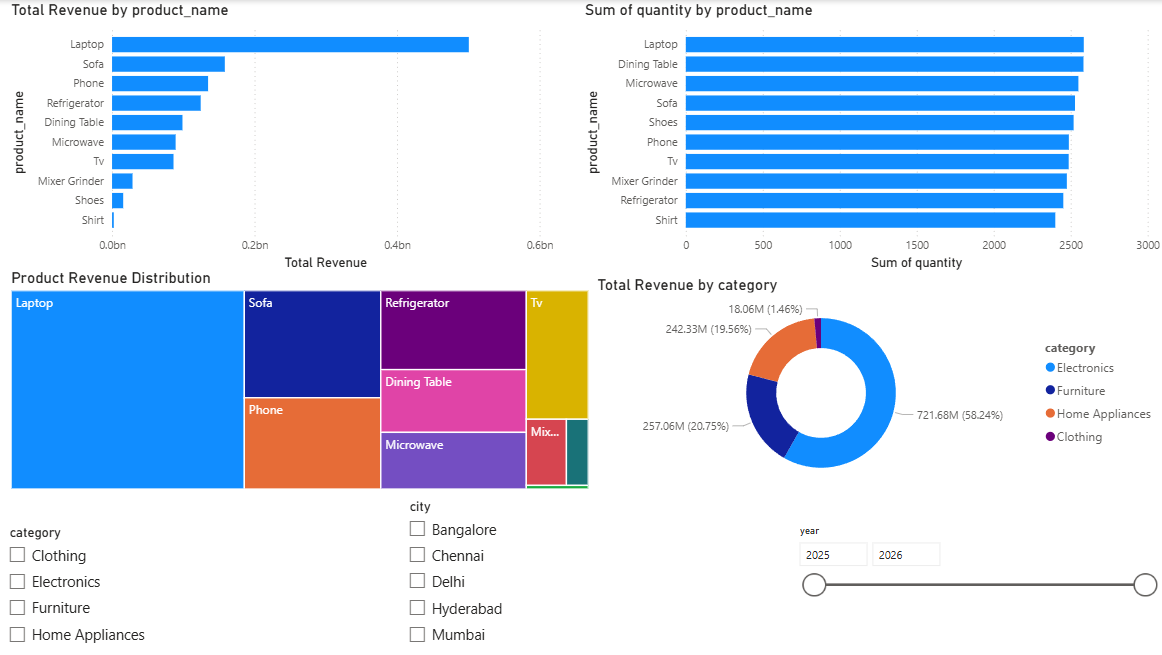

This screenshot's page, from the dashboard's own definition file:
{"tool":"powerbi","page":{"name":"Product Performance","canvas":[1280,720],"ordinal":1},"visuals":[{"type":"clusteredBarChart","fields":{"Category":["cleaned_retail_data.product_name"],"Y":["cleaned_retail_data.Total Revenue"]},"box":[9.6,0,605.1,301.9],"z":0},{"type":"clusteredBarChart","fields":{"Category":["cleaned_retail_data.product_name"],"Y":["Sum(cleaned_retail_data.quantity)"]},"box":[639.5,0,640.8,301.9],"z":1000},{"type":"treemap","title":"Product Revenue Distribution","fields":{"Group":["cleaned_retail_data.product_name"],"Values":["cleaned_retail_data.Total Revenue"]},"box":[9.6,295,643.6,247],"z":2000},{"type":"donutChart","fields":{"Category":["cleaned_retail_data.category"],"Y":["cleaned_retail_data.Total Revenue"]},"box":[653.2,301.9,627.1,240.1],"z":3000},{"type":"slicer","fields":{"Values":["cleaned_retail_data.category"]},"box":[0,570.8,417.2,149.6],"z":4000},{"type":"slicer","fields":{"Values":["cleaned_retail_data.city"]},"box":[439.1,542,428.1,178.4],"z":5000},{"type":"slicer","fields":{"Values":["cleaned_retail_data.year"]},"box":[867.2,570.8,413,149.6],"z":6000}]}

Visuals, with their boxes in screenshot pixels (x1, y1, x2, y2), scaled from the page's 1280x720 canvas onto the 1162x655 screenshot:
clusteredBarChart - cleaned_retail_data.product_name x cleaned_retail_data.Total Revenue: 9/0/558/275
clusteredBarChart - cleaned_retail_data.product_name x Sum(cleaned_retail_data.quantity): 581/0/1161/275
"Product Revenue Distribution" treemap: 9/268/593/493
donutChart - cleaned_retail_data.category x cleaned_retail_data.Total Revenue: 593/275/1161/493
slicer - cleaned_retail_data.category: 0/519/379/654
slicer - cleaned_retail_data.city: 399/493/787/654
slicer - cleaned_retail_data.year: 787/519/1161/654
